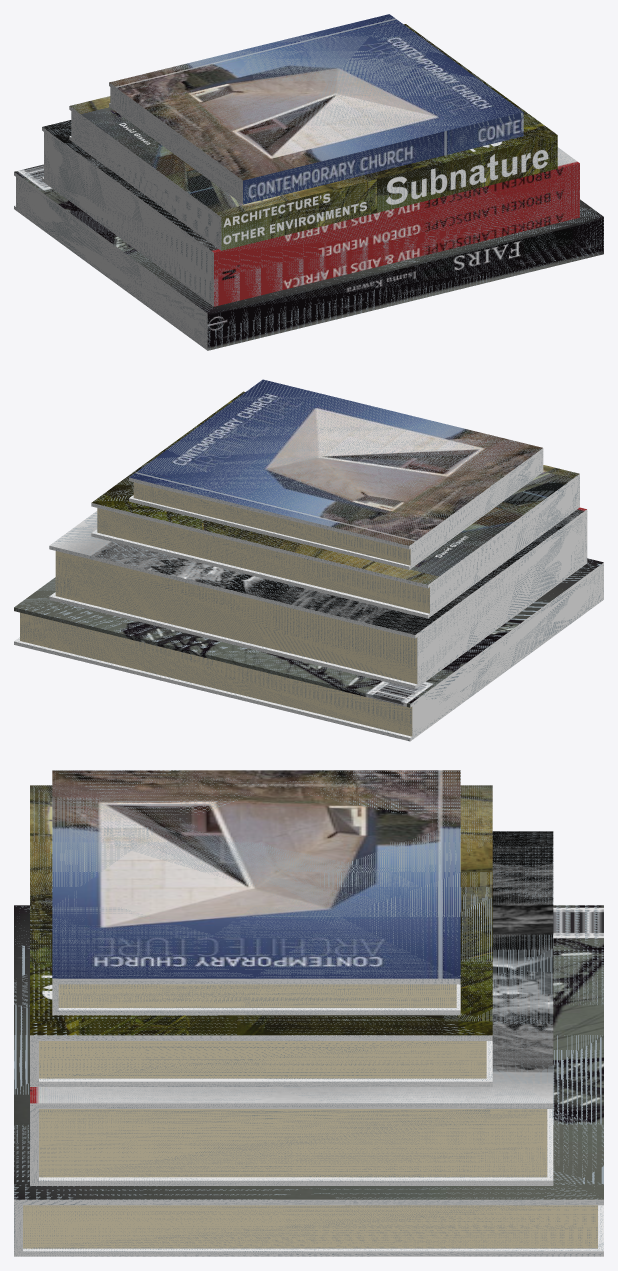
Rendered from books.dae.
3 renders of one model, top to bottom at view 1: azimuth 30°, elevation 25°; view 2: azimuth 150°, elevation 25°; view 3: azimuth 270°, elevation 25°, orthographic. The views are drawn at different scales.
Visible parts, largest first — view 1: Component_20 (×3), Component_22 (×3), Component_23 (×3), Component_21 (×3); view 2: Component_20 (×4), Component_22 (×4), Component_23 (×4), Component_21 (×4); view 3: Component_20 (×3), Component_22 (×3), Component_23 (×3), Component_21 (×3).
Boxes of the visible parts, x1=… form: Component_20 (×3): x1=109, y1=14, x2=523, y2=204; Component_22 (×3): x1=42, y1=120, x2=579, y2=306; Component_23 (×3): x1=14, y1=164, x2=603, y2=350; Component_21 (×3): x1=69, y1=24, x2=557, y2=250; Component_20 (×4): x1=129, y1=379, x2=543, y2=569; Component_22 (×4): x1=49, y1=507, x2=587, y2=688; Component_23 (×4): x1=14, y1=558, x2=603, y2=741; Component_21 (×4): x1=91, y1=391, x2=579, y2=618; Component_20 (×3): x1=52, y1=770, x2=460, y2=1015; Component_22 (×3): x1=30, y1=831, x2=553, y2=1185; Component_23 (×3): x1=14, y1=905, x2=603, y2=1256; Component_21 (×3): x1=30, y1=785, x2=492, y2=1086.
Size of the model in its own units: 13.58 by 11.5 by 4.89.
8 materials, 4 textured.
